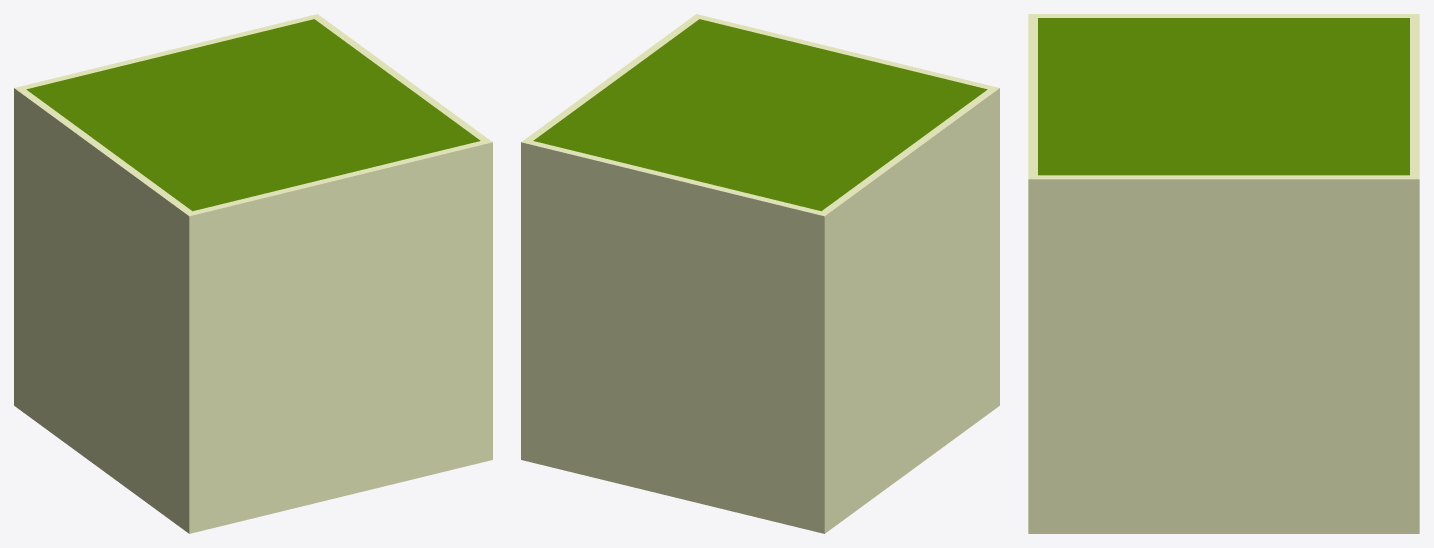
The model's file is ground.obj.
3 views of the same model, side by side, from view 1: azimuth 30°, elevation 25°; view 2: azimuth 150°, elevation 25°; view 3: azimuth 270°, elevation 25° (orthographic). The views are drawn at different scales.
Size of the model in its own units: 4 by 4 by 4.
1 material, 1 textured.
